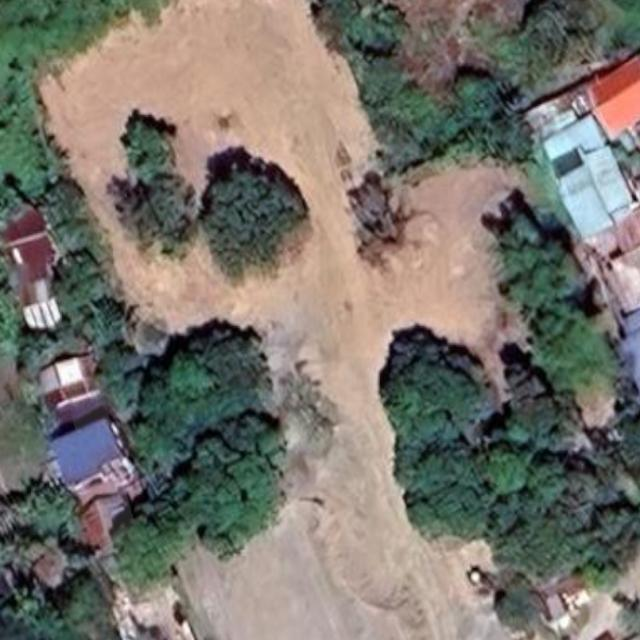Tree: (489, 461, 640, 582), (377, 325, 502, 444), (401, 435, 497, 557), (206, 154, 307, 260), (504, 355, 581, 458), (116, 512, 186, 599), (508, 258, 593, 322), (166, 464, 233, 544), (37, 179, 100, 257), (119, 111, 175, 181), (205, 326, 268, 388), (57, 252, 111, 311), (230, 453, 282, 512), (221, 411, 284, 457), (30, 480, 82, 535), (142, 369, 183, 431), (84, 294, 132, 342), (346, 15, 396, 60), (189, 426, 232, 478), (484, 448, 529, 496), (98, 332, 140, 383), (167, 350, 211, 398), (505, 198, 547, 248), (453, 69, 502, 111), (110, 375, 145, 413)
